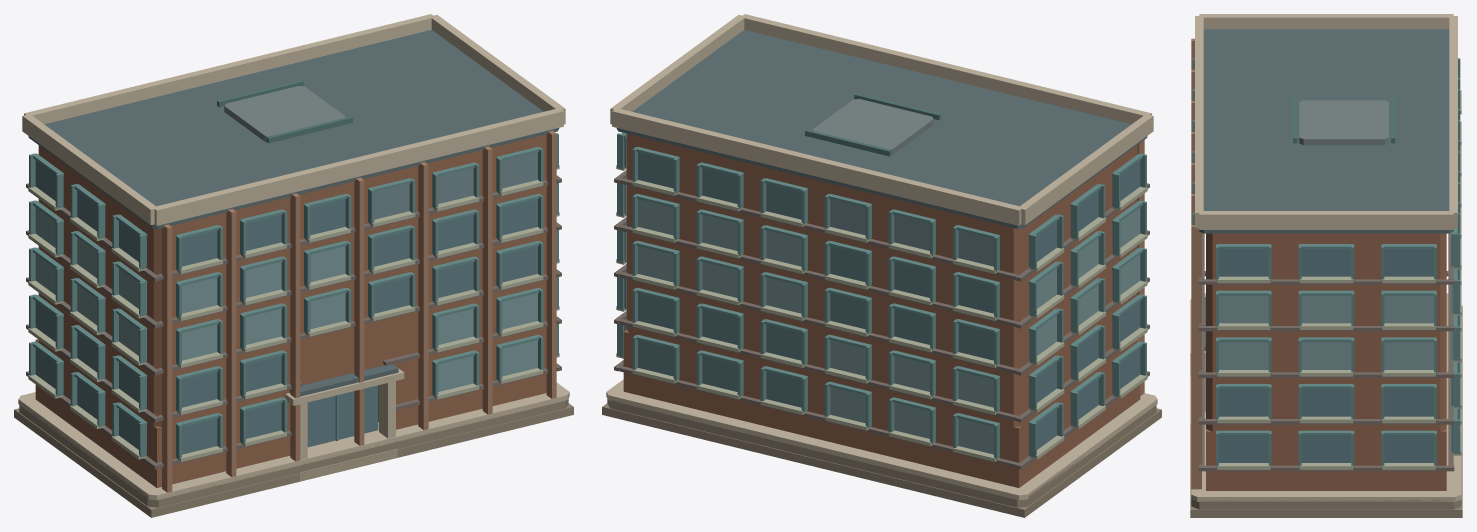
3 renders of one model, left to right at view 1: azimuth 30°, elevation 25°; view 2: azimuth 150°, elevation 25°; view 3: azimuth 270°, elevation 25°, orthographic.
Visible parts, largest first — view 1: form, relief, glaze, glowing; view 2: form, relief, glaze, glowing; view 3: form, glaze, relief, glowing.
Boxes of the visible parts, x1,y1,x2,y2 form: form: (14,14,573,517); relief: (28,133,559,461); glaze: (35,152,537,454); glowing: (119,246,345,313); form: (602,14,1161,517); relief: (616,132,1147,461); glaze: (624,137,1140,454); glowing: (624,185,1140,423); form: (1190,14,1462,517); glaze: (1219,233,1453,462); relief: (1192,58,1461,469); glowing: (1384,295,1433,323).
Size of the model in its own units: 16 by 11 by 9.
